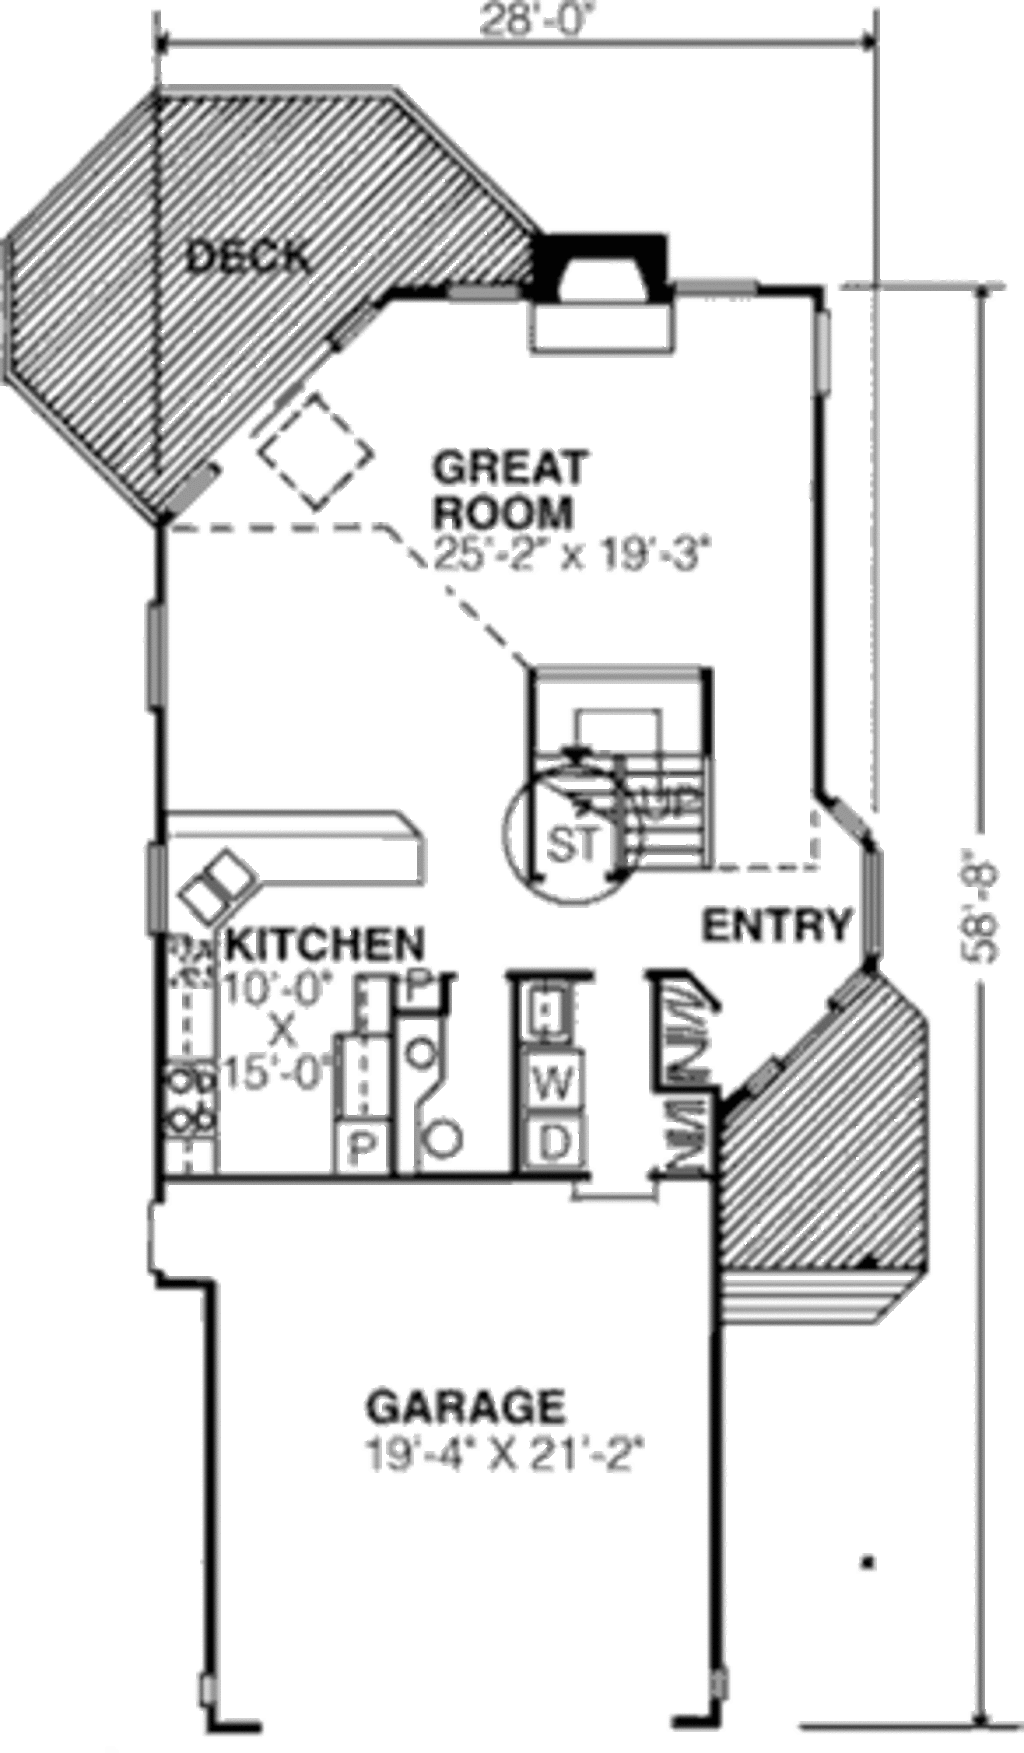small_sink: (430, 1104, 486, 1172)
stairs: (499, 653, 736, 909)
twin_sink: (167, 848, 274, 929)
window: (808, 791, 908, 976), (145, 588, 174, 735), (796, 306, 837, 396)
